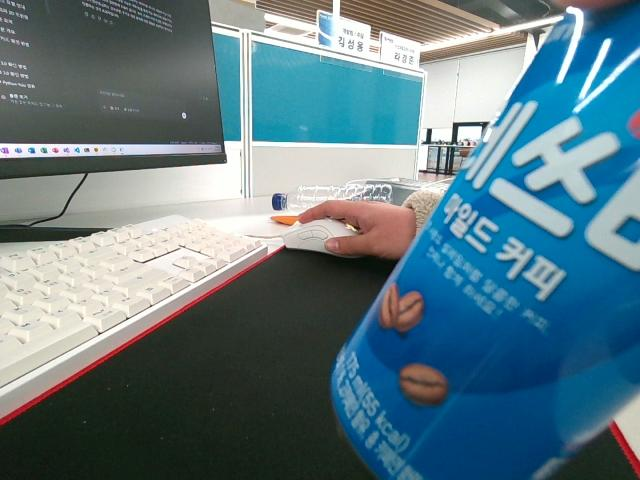letsbe: (331, 0, 640, 480)
